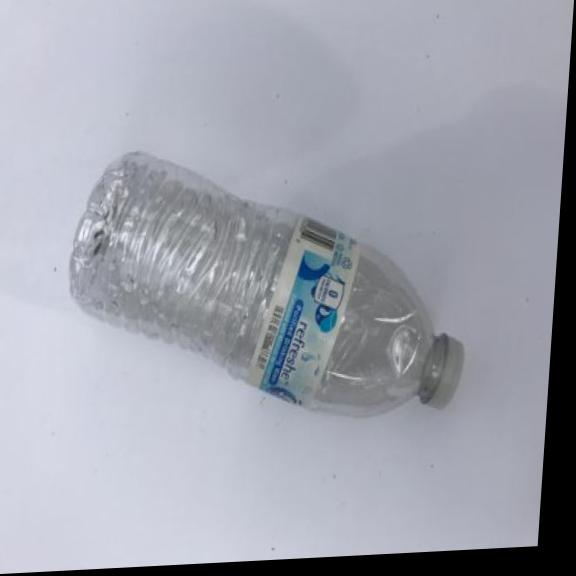Plastik: (45, 122, 485, 463)
